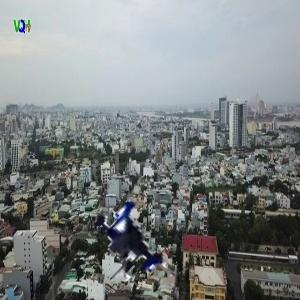drone: (75, 161, 211, 297)
